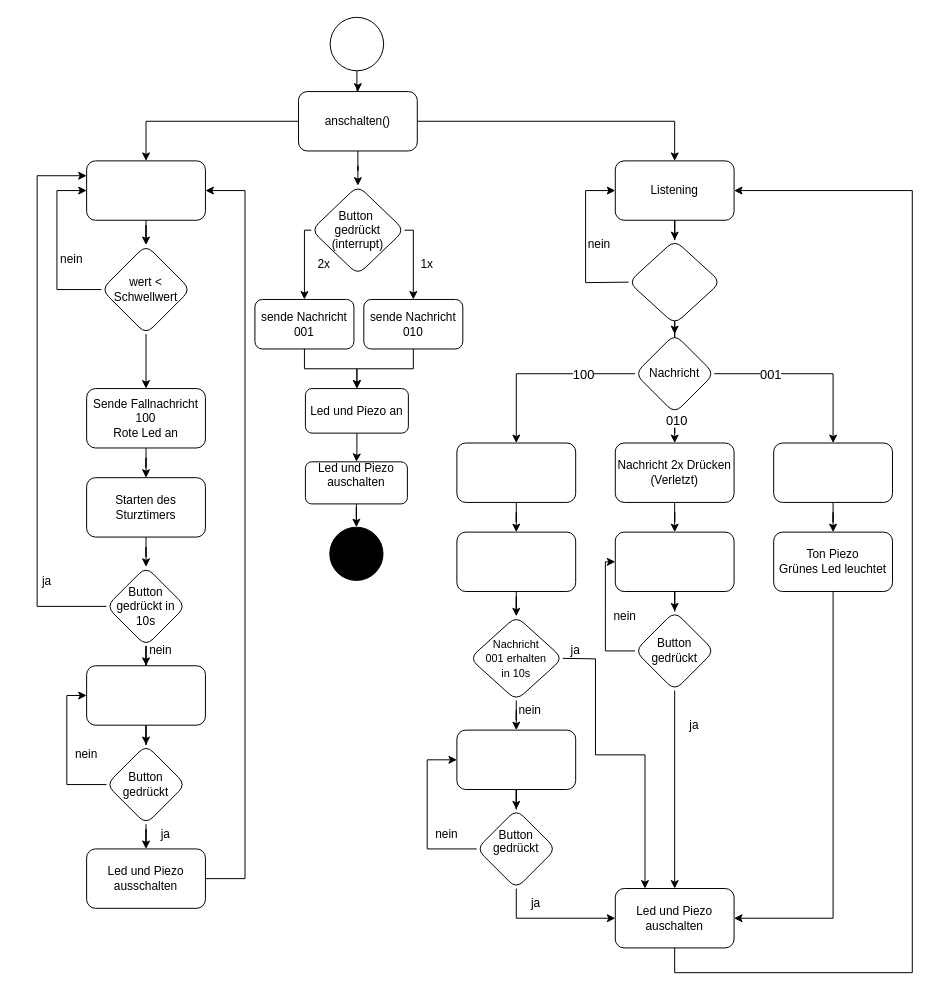
The diagram is 938 pixels wide and 998 high, and some of its shapes have lost their labels. The shapes that lost their labels are listed below. From the top down, each one's centre as x and y in pixels, then its label:
At [356,43]: "Start".
At [145,190]: "IMU Berechnung".
At [674,281]: "Nachricht erhalten".
At [516,472]: "Nachricht Fall".
At [832,472]: "Nachricht 1x Drücken".
At [356,553]: "Ende interrupt".
At [516,561]: "Rote led an".
At [674,561]: "Alarm Ton Piezo Rot/Grün abwechseln".
At [145,695]: "Piezo Alarm".
At [516,759]: "Alarm".
